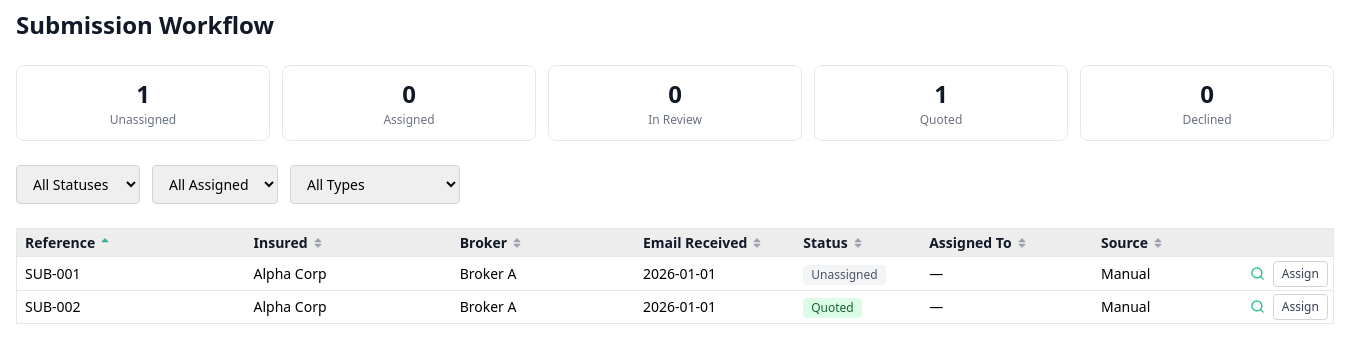
Test: WorkflowPage — /workflow/submissions › T-WF-FE-F-R015 — Status filter dropdown filters rows client-side
The image size is (1351, 341).
Expected: the link "SUB-001" is shown, [25, 263, 81, 284]
Select "Quoted" in the 1st dropdown at (78, 184), box [16, 165, 140, 204]
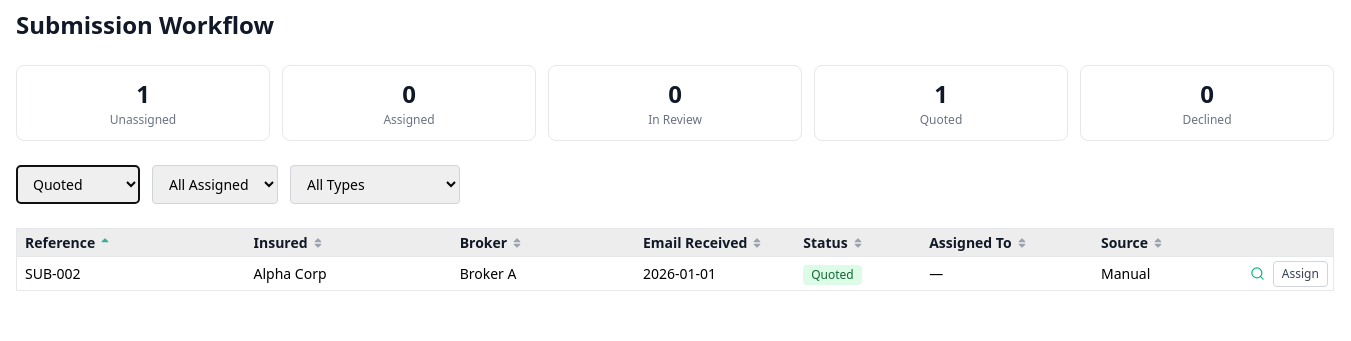
Expected: the link "SUB-002" is shown, [25, 263, 81, 284]
Result: the link "SUB-001" is gone
